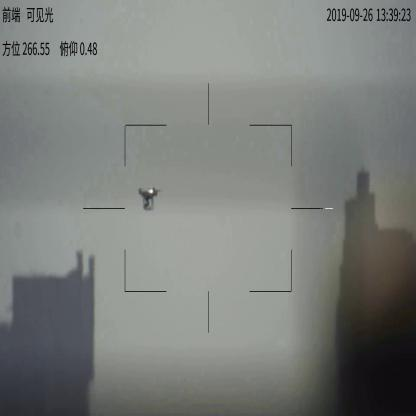uav: (136, 185, 162, 210)
